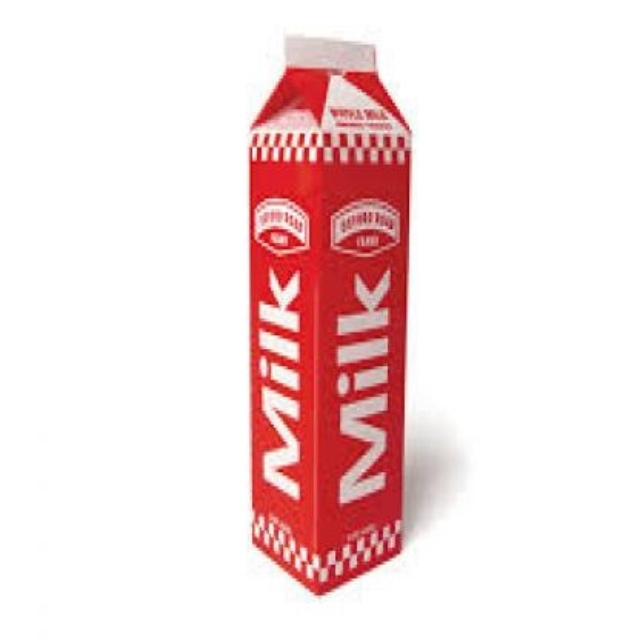trash: (249, 37, 409, 592)
